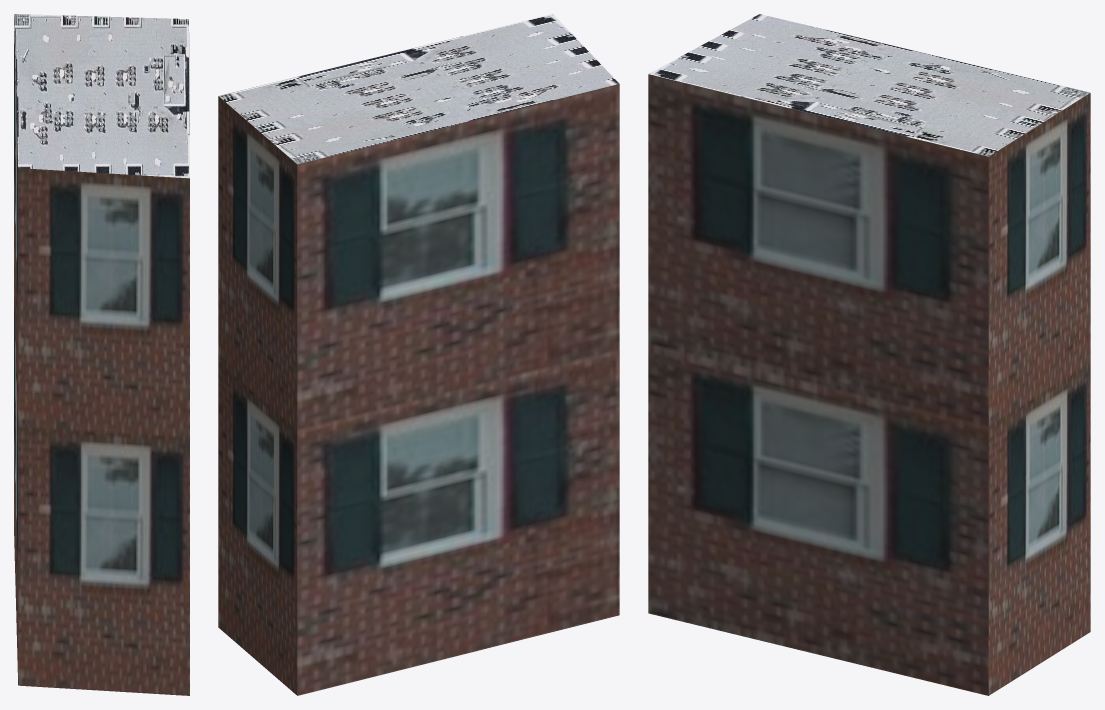
The model's file is ResTex__663.fbx.
3 views of the same model, side by side, from view 1: azimuth 30°, elevation 25°; view 2: azimuth 150°, elevation 25°; view 3: azimuth 270°, elevation 25° (orthographic). The views are drawn at different scales.
Parts seen in each view (by area): view 1: CityEngineMaterial_14_m, CityEngineMaterial_m; view 2: CityEngineMaterial_14_m, CityEngineMaterial_m; view 3: CityEngineMaterial_14_m, CityEngineMaterial_m.
Part boxes in pixels (x1=…): CityEngineMaterial_14_m: x1=14, y1=18, x2=189, y2=695; CityEngineMaterial_m: x1=14, y1=14, x2=189, y2=178; CityEngineMaterial_14_m: x1=218, y1=84, x2=619, y2=695; CityEngineMaterial_m: x1=219, y1=14, x2=619, y2=164; CityEngineMaterial_14_m: x1=648, y1=74, x2=1090, y2=695; CityEngineMaterial_m: x1=648, y1=14, x2=1090, y2=156.
Size of the model in its own units: 3.41 by 6 by 4.46.
Materials: 2 (2 with a texture image).
